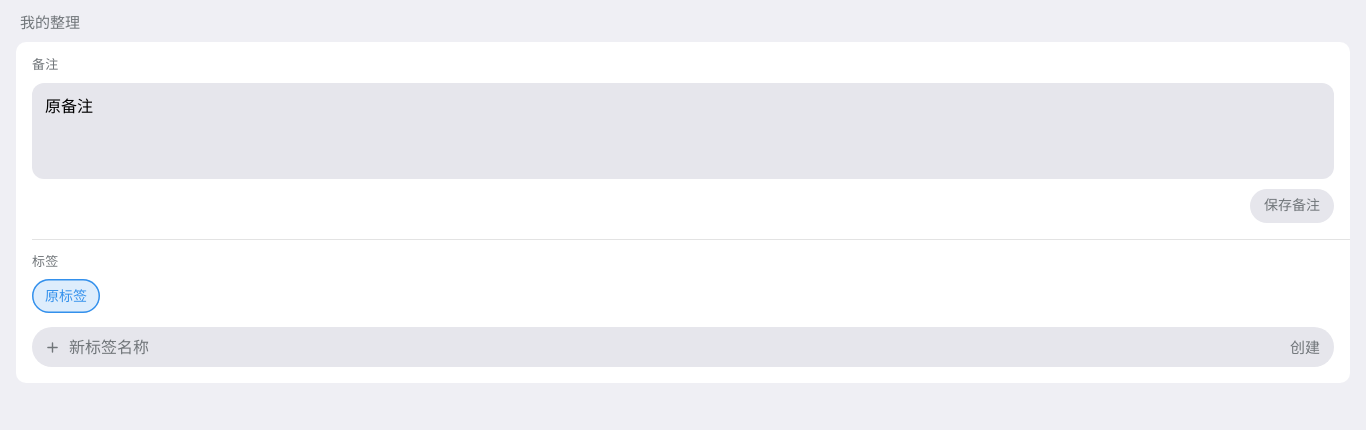
it: keeps a failed note save inside the note region
Replace the text in the text box labelled "备注" with "新备注". click: (683, 131)
box: [32,83,1334,179]
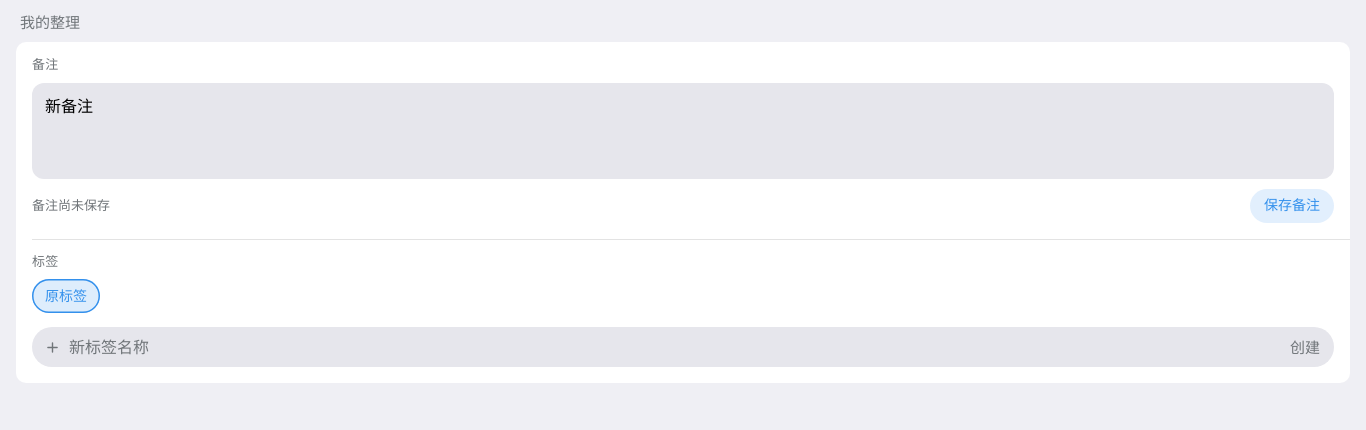
Click the button "保存备注". click: (1292, 206)
box: [1250,189,1334,223]
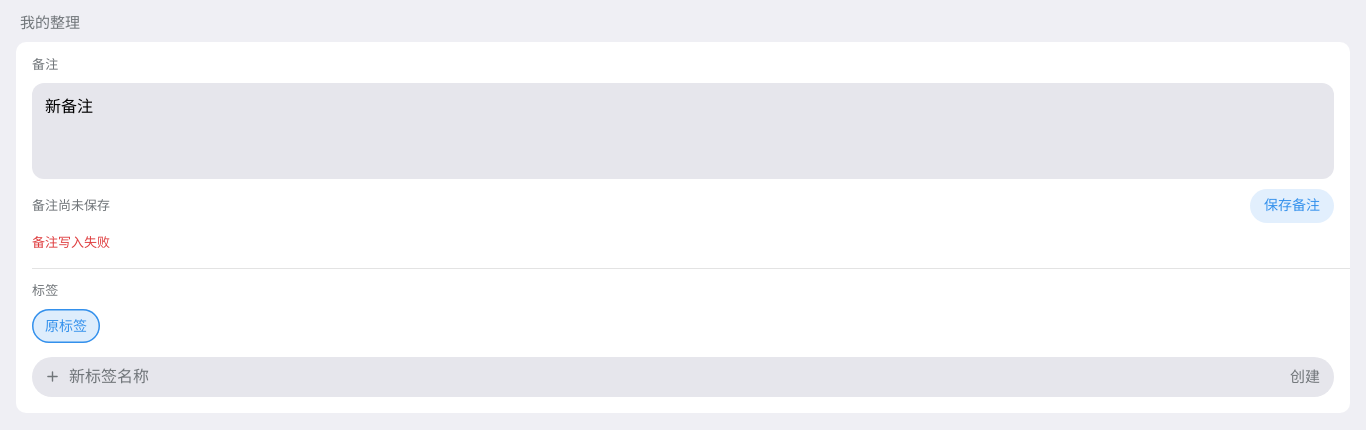
Expected: the button "保存备注" is enabled, [1250,189,1334,223]
Expected: the text "备注写入失败" is shown, [32,234,110,250]
Click the checkbox labelled "原标签". click: (66, 326)
box: [32,309,100,343]
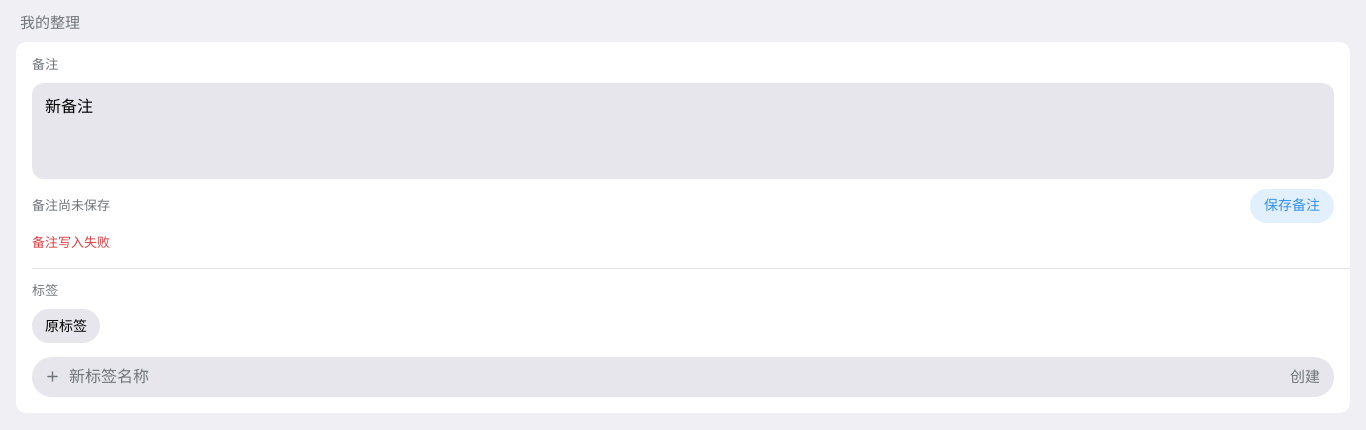
Expected: the text "备注写入失败" is shown, [32,234,110,250]
Click the button "保存备注". click: (1292, 206)
box: [1250,189,1334,223]
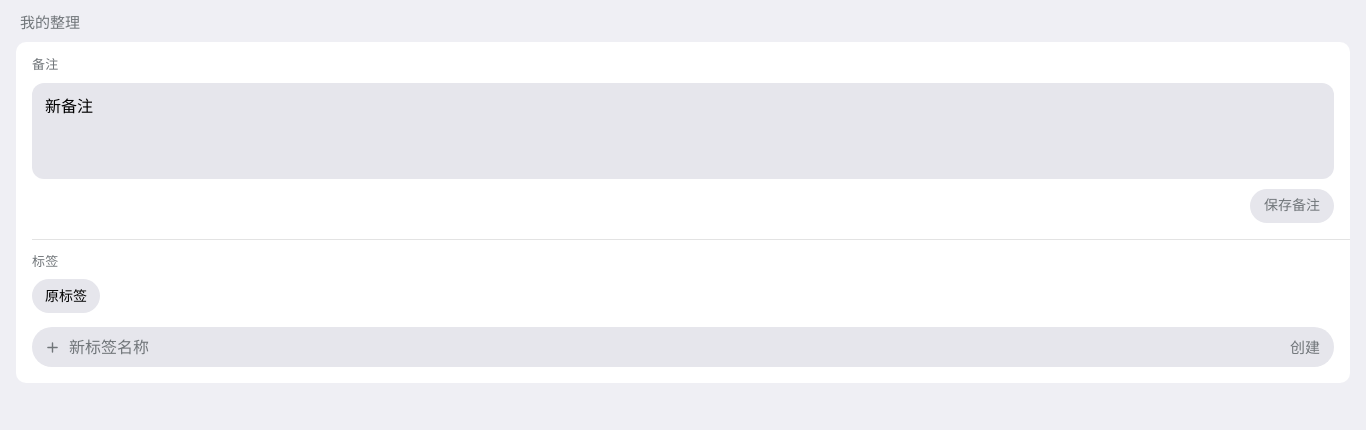
Expected: the text "备注写入失败" is gone
